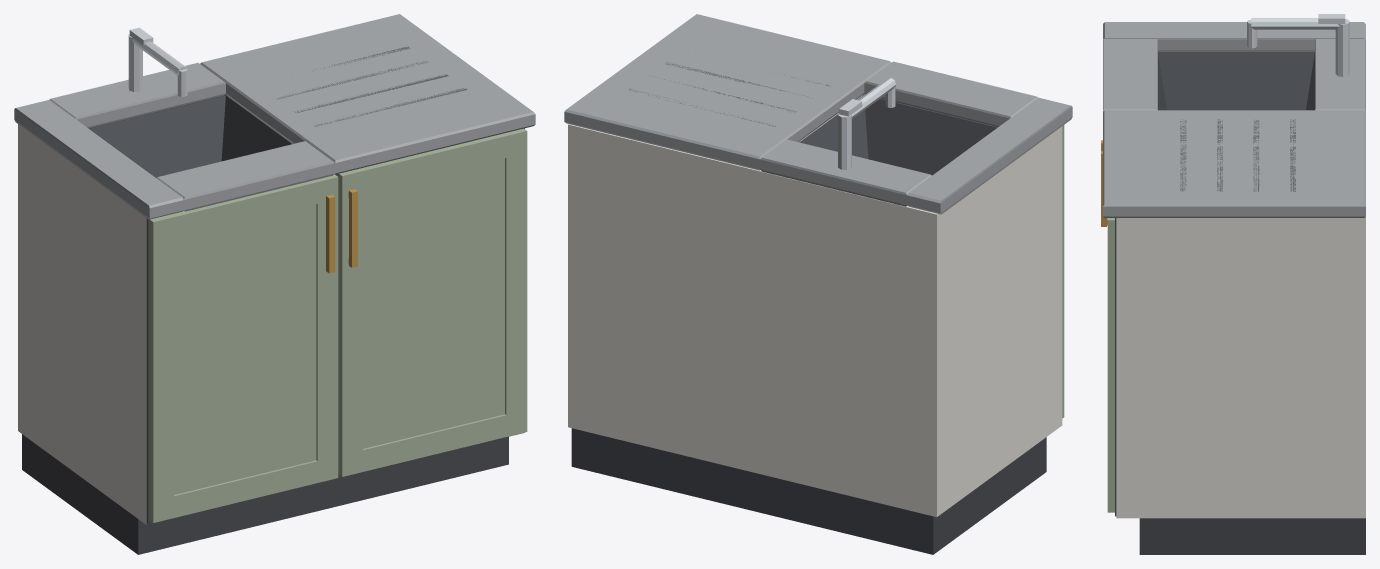
The model's file is FN_Cabinet_Kitchen_Sink.glb.
3 renders of one model, left to right at view 1: azimuth 30°, elevation 25°; view 2: azimuth 150°, elevation 25°; view 3: azimuth 270°, elevation 25°, orthographic. The views are drawn at different scales.
Parts seen in each view (by area): view 1: FN_Cabinet_Kitchen_Sink; view 2: FN_Cabinet_Kitchen_Sink; view 3: FN_Cabinet_Kitchen_Sink.
Part boxes in pixels (<box>): FN_Cabinet_Kitchen_Sink: <box>14,14,535,554</box>; FN_Cabinet_Kitchen_Sink: <box>564,14,1072,554</box>; FN_Cabinet_Kitchen_Sink: <box>1101,14,1365,554</box>.
Size of the model in its own units: 1.02 by 1.07 by 0.624.
1 material, 1 textured.
